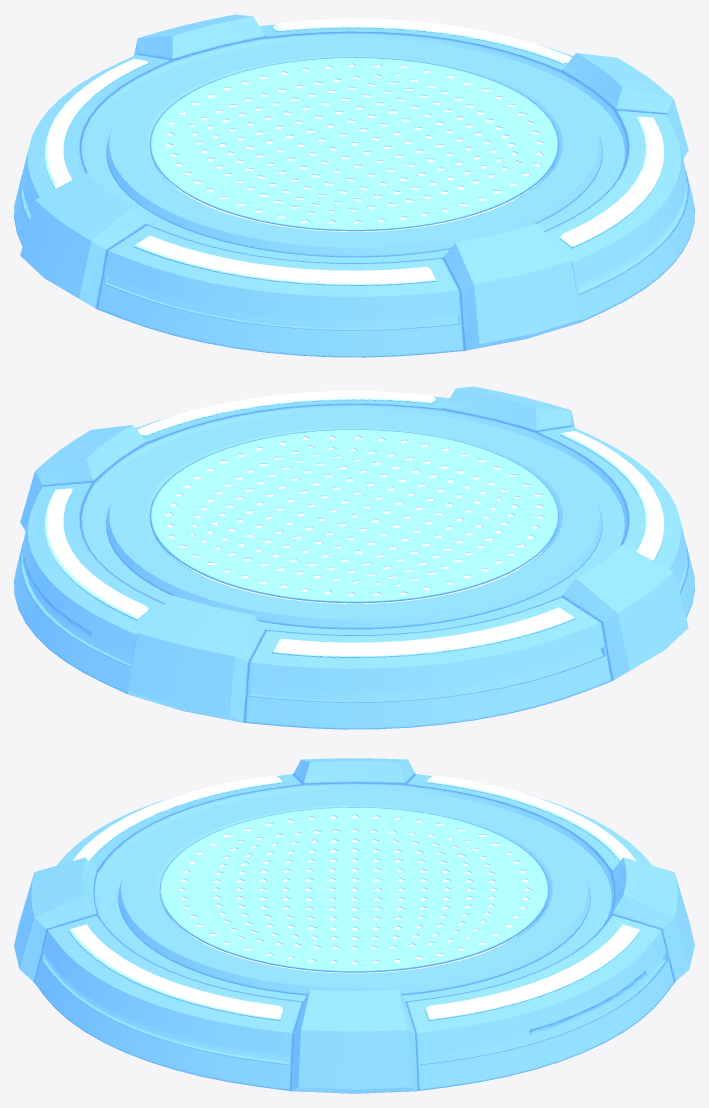
File: tech_pedestal.glb
The picture shows the model from 3 angles, top to bottom: view 1: azimuth 30°, elevation 25°; view 2: azimuth 150°, elevation 25°; view 3: azimuth 270°, elevation 25°; orthographic projection. The views are drawn at different scales.
Visible parts, largest first — view 1: tech_pedestal; view 2: tech_pedestal; view 3: tech_pedestal.
Boxes of the visible parts, x1,y1,x2,y2 form: tech_pedestal: (14,14,694,357); tech_pedestal: (14,386,694,729); tech_pedestal: (14,758,694,1093).
Bounding box in the file's own units: 24.79 × 3.21 × 24.79.
Materials: 1 (1 with a texture image).
